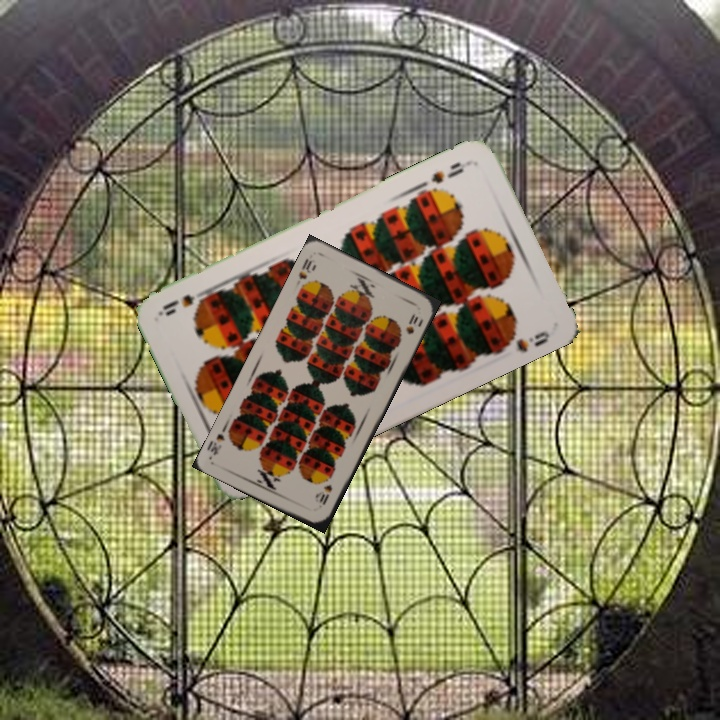S10: (294, 254, 319, 282), (315, 480, 335, 508)
S9: (427, 158, 467, 186)
